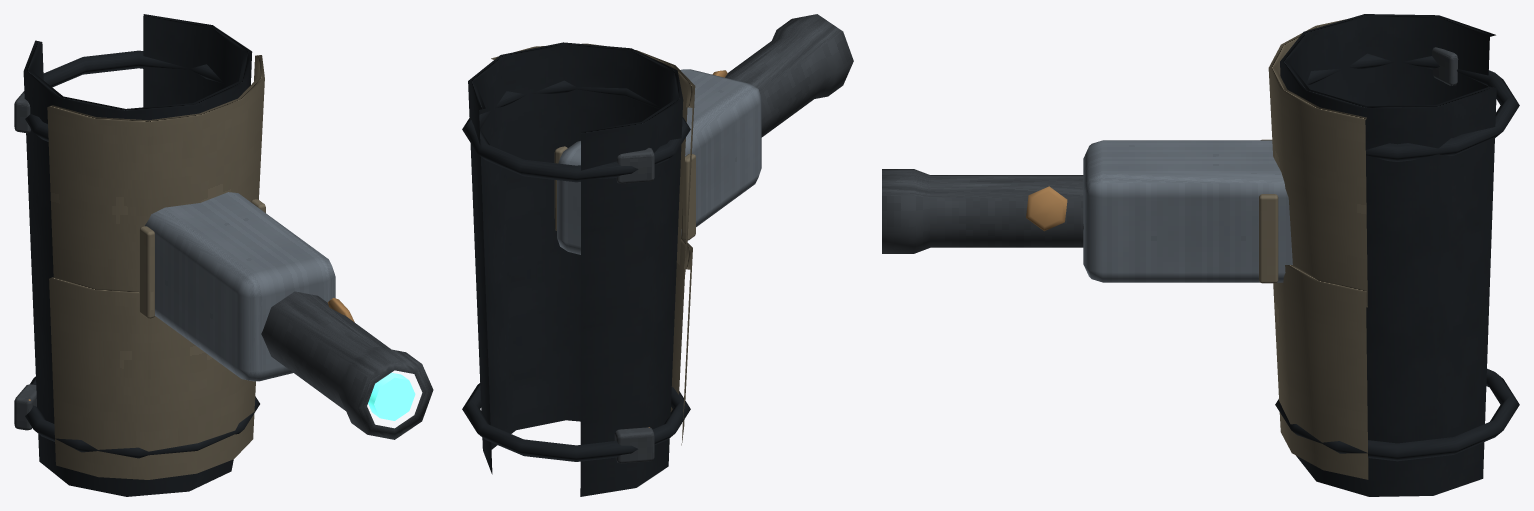
The model's file is wrist-emitter.lod2.glb.
The picture shows the model from 3 angles, left to right: view 1: azimuth 30°, elevation 25°; view 2: azimuth 150°, elevation 25°; view 3: azimuth 270°, elevation 25°; orthographic projection. The views are drawn at different scales.
Visible parts, largest first — view 1: ceramic / ceramic composite panel, polymer / stippled polymer, alloy / machined anodized alloy, darksteel / oil-blackened fittings, energy / emissive field channel; view 2: polymer / stippled polymer, alloy / machined anodized alloy, darksteel / oil-blackened fittings, ceramic / ceramic composite panel; view 3: polymer / stippled polymer, ceramic / ceramic composite panel, alloy / machined anodized alloy, darksteel / oil-blackened fittings, peened pin.
Part boxes in pixels (<box>): ceramic / ceramic composite panel: <box>47,55,265,479</box>; polymer / stippled polymer: <box>23,14,259,496</box>; alloy / machined anodized alloy: <box>145,192,335,381</box>; darksteel / oil-blackened fittings: <box>14,91,433,439</box>; energy / emissive field channel: <box>368,372,415,420</box>; polymer / stippled polymer: <box>462,42,690,496</box>; alloy / machined anodized alloy: <box>557,69,761,254</box>; darksteel / oil-blackened fittings: <box>614,14,853,463</box>; ceramic / ceramic composite panel: <box>491,43,695,445</box>; polymer / stippled polymer: <box>1275,14,1519,496</box>; ceramic / ceramic composite panel: <box>1259,19,1368,479</box>; alloy / machined anodized alloy: <box>1083,140,1292,282</box>; darksteel / oil-blackened fittings: <box>882,47,1458,253</box>; peened pin: <box>1026,186,1067,231</box>.
Size of the model in its own units: 0.155 by 0.27 by 0.396.
Materials: 6 (4 with a texture image).
